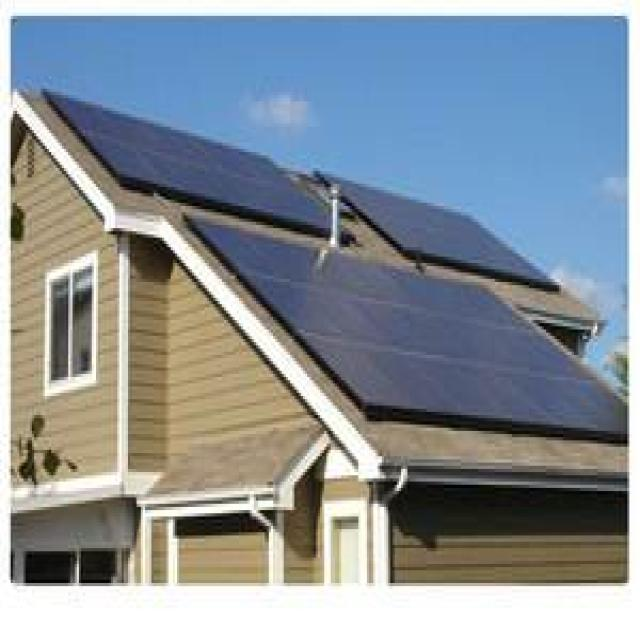clean-solar-panel: (192, 219, 626, 435), (44, 91, 330, 231), (318, 173, 559, 289)
